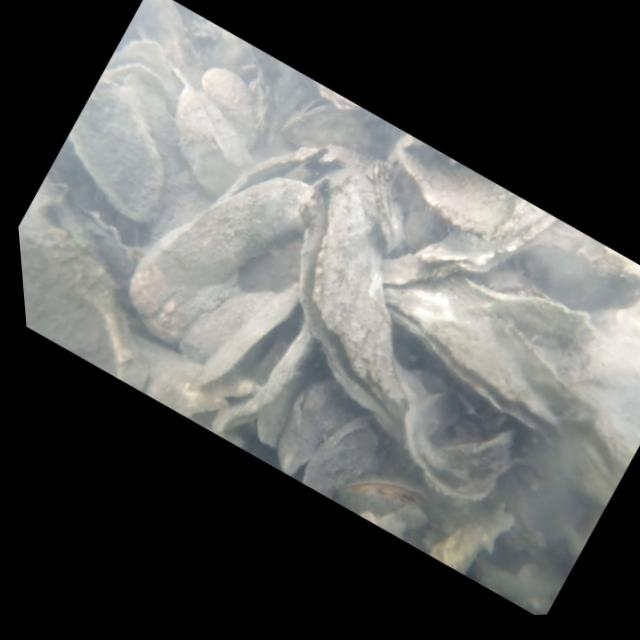Oyster-Closed: (362, 148, 567, 352), (253, 362, 368, 488), (294, 402, 397, 512), (331, 449, 442, 549), (336, 154, 436, 255), (49, 194, 152, 284)
Oyster-Indeterminate: (15, 171, 207, 391), (41, 70, 208, 232), (371, 125, 542, 265), (498, 203, 640, 346), (137, 76, 273, 206), (180, 58, 281, 151)
Oyster-Open: (95, 90, 363, 384), (226, 157, 504, 435), (351, 237, 609, 455), (164, 254, 351, 460), (375, 367, 533, 517), (271, 78, 385, 181), (93, 21, 202, 124)
